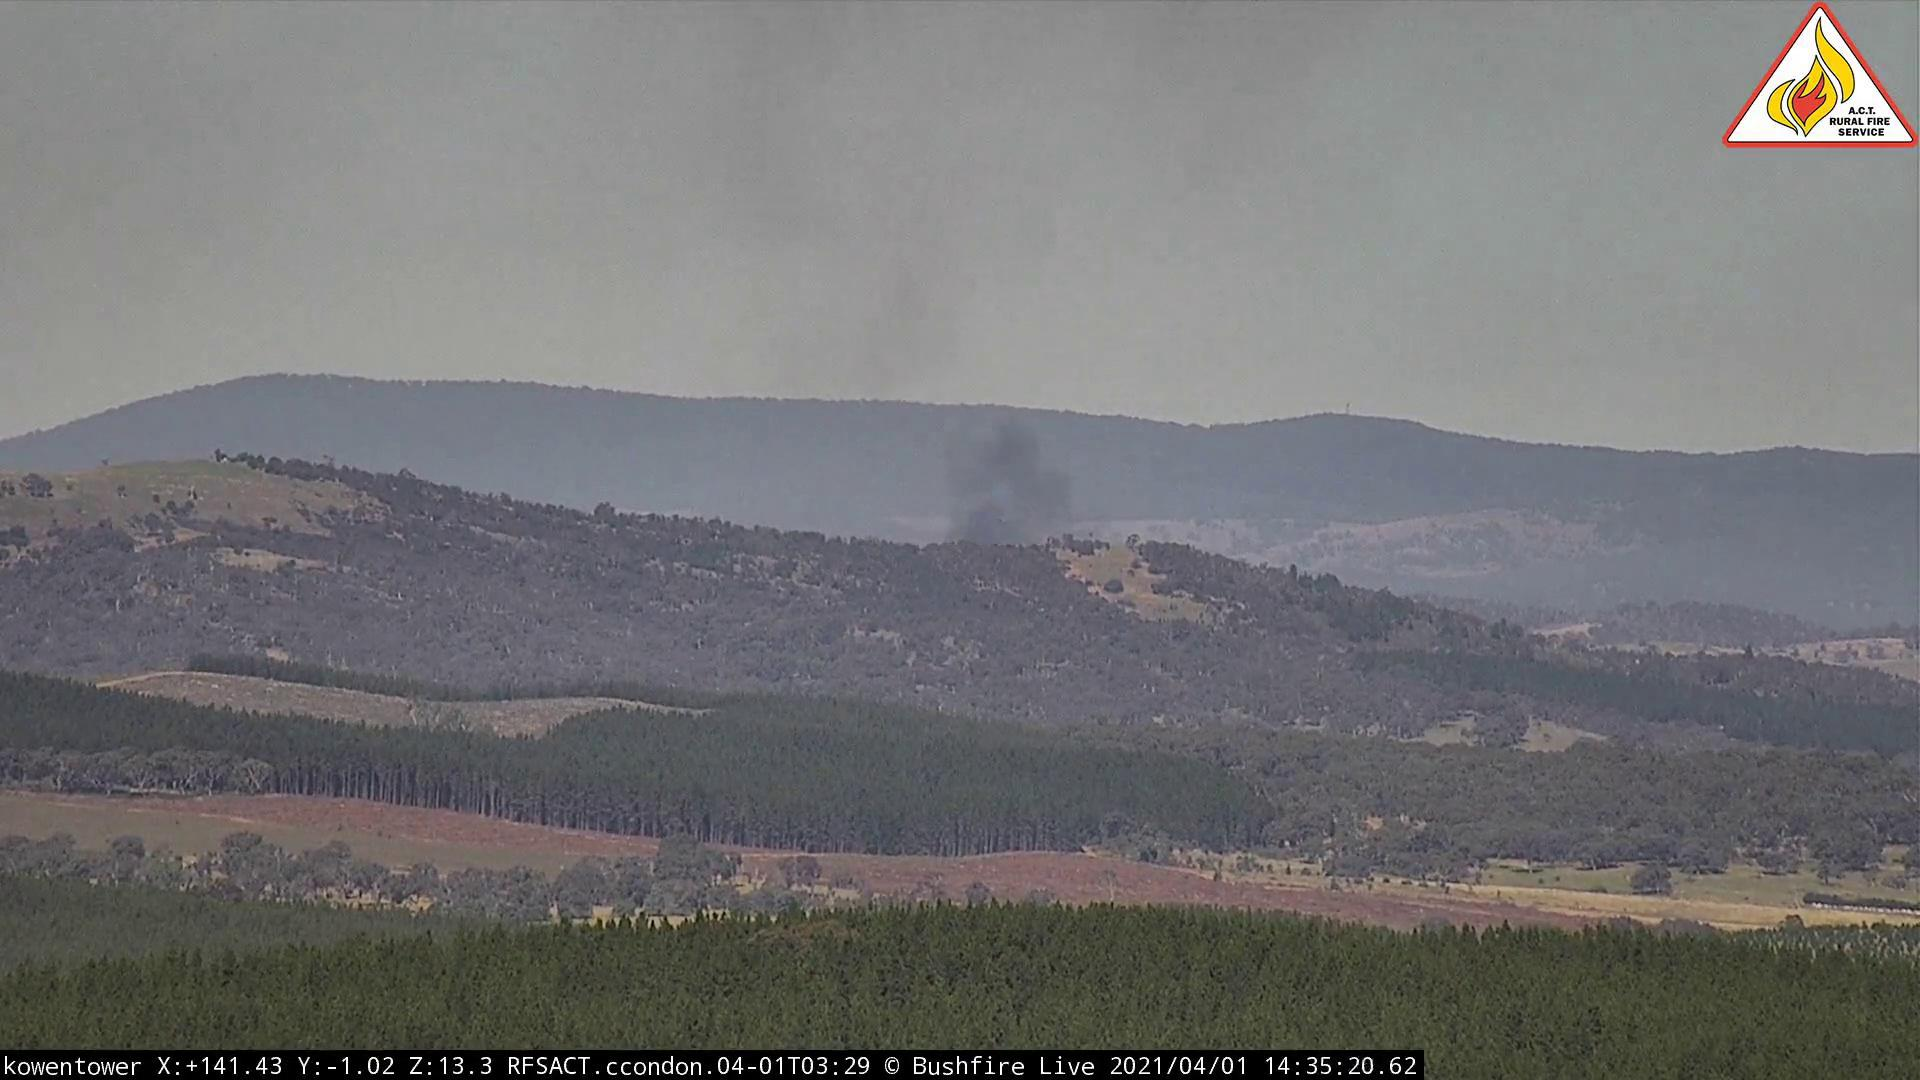Smoke: (866, 342, 1127, 589)
